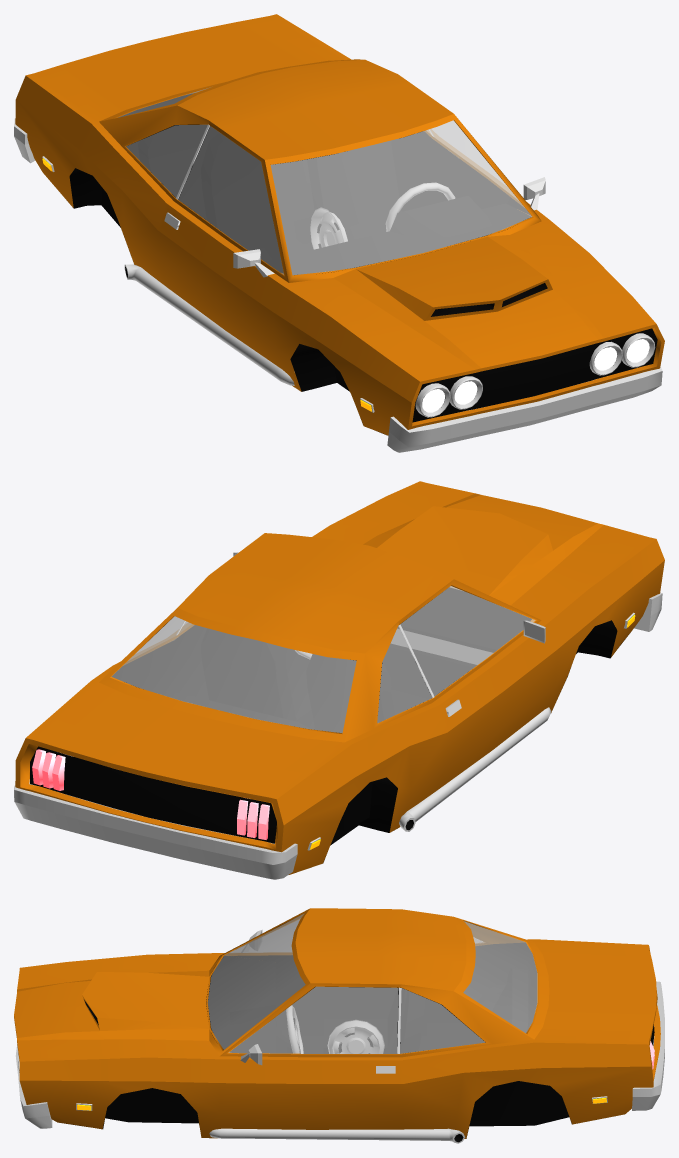
Rendered from chassis-draco.glb.
3 renders of one model, top to bottom at view 1: azimuth 30°, elevation 25°; view 2: azimuth 150°, elevation 25°; view 3: azimuth 270°, elevation 25°, orthographic. The views are drawn at different scales.
Parts seen in each view (by area): view 1: Cube_0, Mesh_8; view 2: Cube_0; view 3: Cube_0, Mesh_8.
Boxes of the visible parts, <box> form: Cube_0: <box>14,14,664,452</box>; Mesh_8: <box>310,207,347,249</box>; Cube_0: <box>14,481,664,879</box>; Cube_0: <box>14,908,664,1143</box>; Mesh_8: <box>327,1020,384,1053</box>.
Size of the model in its own units: 5.46 by 3.02 by 12.15.
